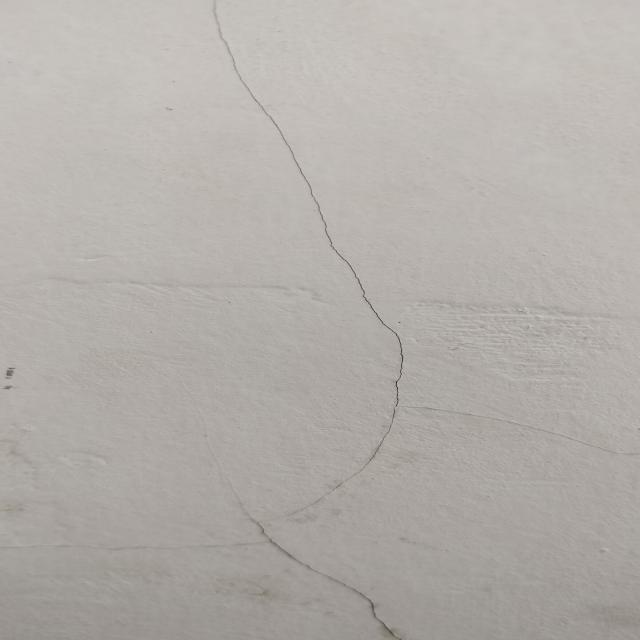Crack: (200, 1, 420, 478)
